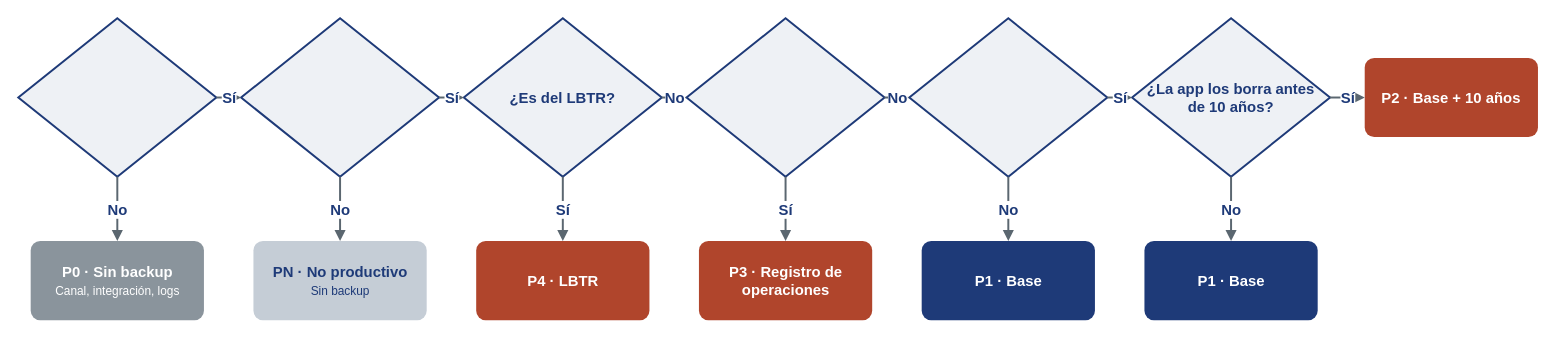
Some shapes in this 1554 by 337 pixel diagram are drawn without their labels. The shapes that lost their labels are listed below. From the top down, each one's box as (x1, y1, x2, y2) in pixels, then its label:
(17, 17, 217, 177): ¿Guarda datos?
(240, 17, 440, 177): ¿Es producción?
(685, 17, 885, 177): ¿Guarda operaciones de US$10 mil o más?
(908, 17, 1108, 177): ¿Guarda libros, KYC o inusuales?
